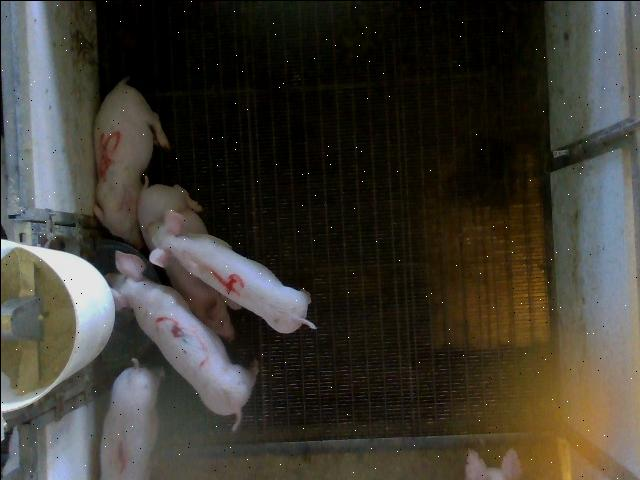pig-1: (99, 358, 164, 478)
pig-3: (105, 251, 256, 428)
pig-4: (148, 210, 315, 332)
pig-5: (92, 78, 169, 247)
